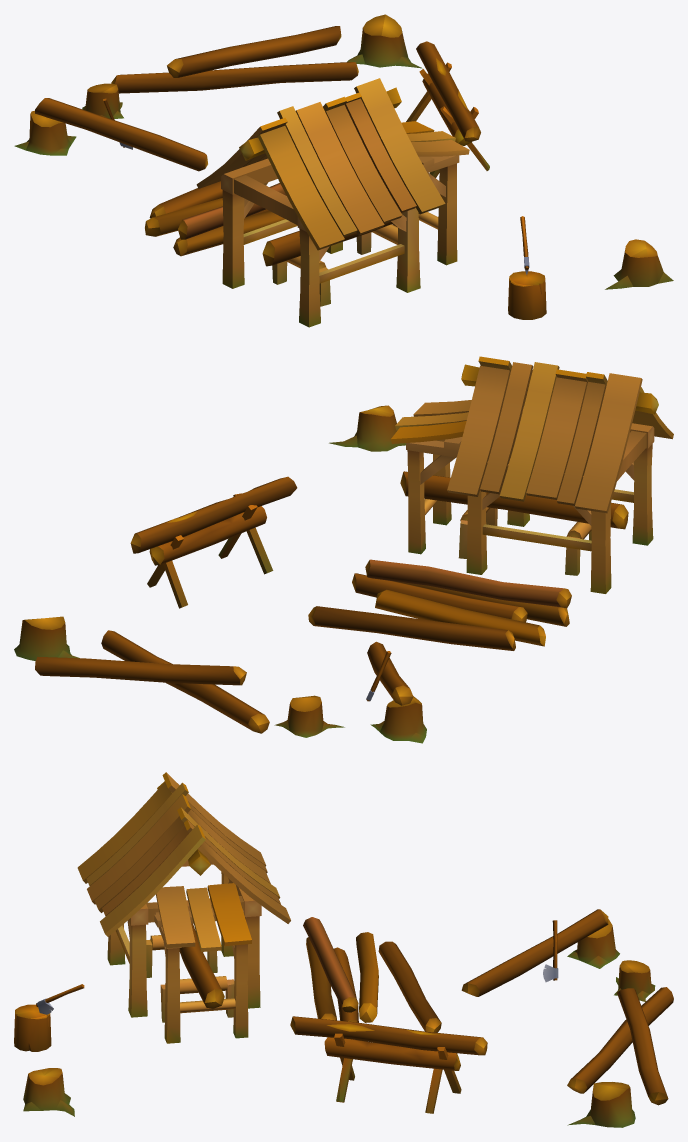
The model's file is sawmill_1.fbx.
3 views of the same model, one above another, from view 1: azimuth 30°, elevation 25°; view 2: azimuth 150°, elevation 25°; view 3: azimuth 270°, elevation 25° (orthographic). The views are drawn at different scales.
Parts seen in each view (by area): view 1: Cube.018, Cylinder.011, Cylinder.022, Cylinder.012, Cylinder.009, Cylinder.024, Cylinder.007, Cylinder.013, Cylinder.010, Cylinder.016, Cylinder.018, Cylinder.020 (+4 smaller); view 2: Cube.018, Cylinder.021, Cylinder.012, Cylinder.020, Cylinder.016, Cylinder.024, Cylinder.019, Cylinder.011, Cylinder.015, Cylinder.017, Cylinder.009, Cylinder.007 (+4 smaller); view 3: Cube.018, Cylinder.016, Cylinder.024, Cylinder.022, Cylinder.011, Cylinder.012, Cylinder.021, Cylinder.009, Cylinder.020, Cylinder.007, Cylinder.019, Cylinder.013 (+5 smaller).
Part boxes in pixels (x1=…): Cube.018: x1=196, y1=78, x2=469, y2=327; Cylinder.011: x1=111, y1=62, x2=358, y2=93; Cylinder.022: x1=35, y1=98, x2=207, y2=171; Cylinder.012: x1=167, y1=26, x2=341, y2=77; Cylinder.009: x1=347, y1=14, x2=422, y2=68; Cylinder.024: x1=416, y1=41, x2=480, y2=141; Cylinder.007: x1=605, y1=239, x2=673, y2=289; Cylinder.013: x1=508, y1=271, x2=546, y2=319; Cylinder.010: x1=14, y1=110, x2=76, y2=155; Cylinder.016: x1=406, y1=62, x2=489, y2=177; Cylinder.018: x1=173, y1=211, x2=285, y2=256; Cylinder.020: x1=178, y1=183, x2=286, y2=239; Cube.018: x1=391, y1=356, x2=673, y2=593; Cylinder.021: x1=308, y1=606, x2=515, y2=650; Cylinder.012: x1=35, y1=656, x2=246, y2=685; Cylinder.020: x1=365, y1=559, x2=571, y2=608; Cylinder.016: x1=147, y1=493, x2=273, y2=608; Cylinder.024: x1=130, y1=476, x2=297, y2=553; Cylinder.019: x1=375, y1=589, x2=545, y2=646; Cylinder.011: x1=101, y1=630, x2=269, y2=733; Cylinder.015: x1=400, y1=471, x2=628, y2=529; Cylinder.017: x1=352, y1=573, x2=527, y2=622; Cylinder.009: x1=14, y1=616, x2=79, y2=660; Cylinder.007: x1=329, y1=405, x2=405, y2=451; Cube.018: x1=77, y1=772, x2=290, y2=1043; Cylinder.016: x1=324, y1=1033, x2=461, y2=1113; Cylinder.024: x1=290, y1=1016, x2=487, y2=1055; Cylinder.022: x1=461, y1=909, x2=608, y2=996; Cylinder.011: x1=567, y1=987, x2=673, y2=1093; Cylinder.012: x1=617, y1=988, x2=668, y2=1105; Cylinder.021: x1=378, y1=941, x2=441, y2=1032; Cylinder.009: x1=567, y1=1082, x2=635, y2=1127; Cylinder.020: x1=303, y1=917, x2=358, y2=1012; Cylinder.007: x1=23, y1=1068, x2=74, y2=1116; Cylinder.019: x1=356, y1=932, x2=378, y2=1022; Cylinder.013: x1=14, y1=1004, x2=51, y2=1051.
Bounding box in the file's own units: 715 × 329 × 1073.
